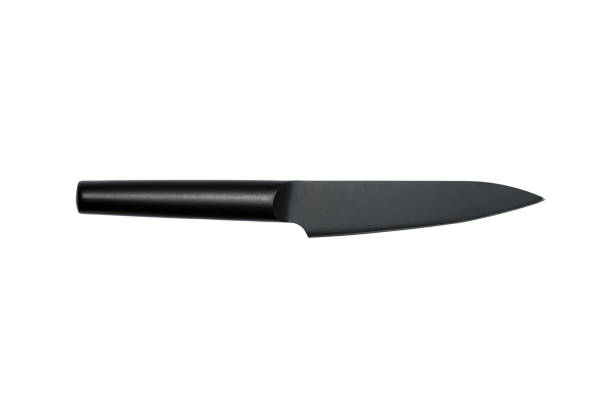knife: (72, 177, 547, 239)
